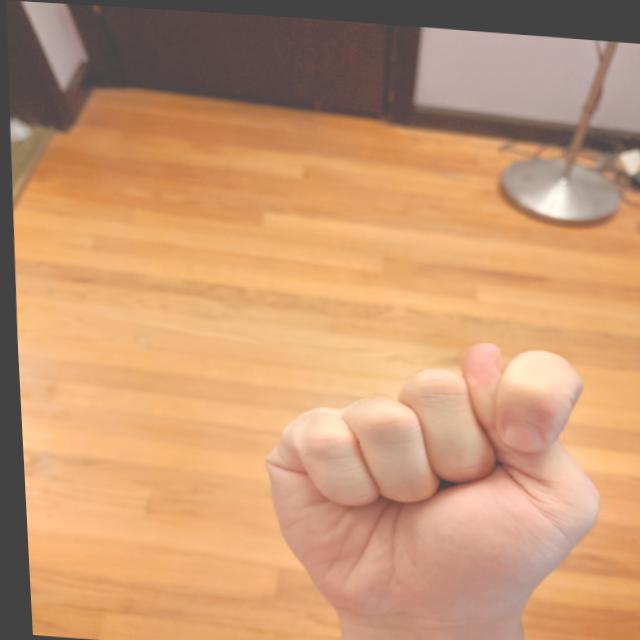T: (240, 315, 617, 636)
